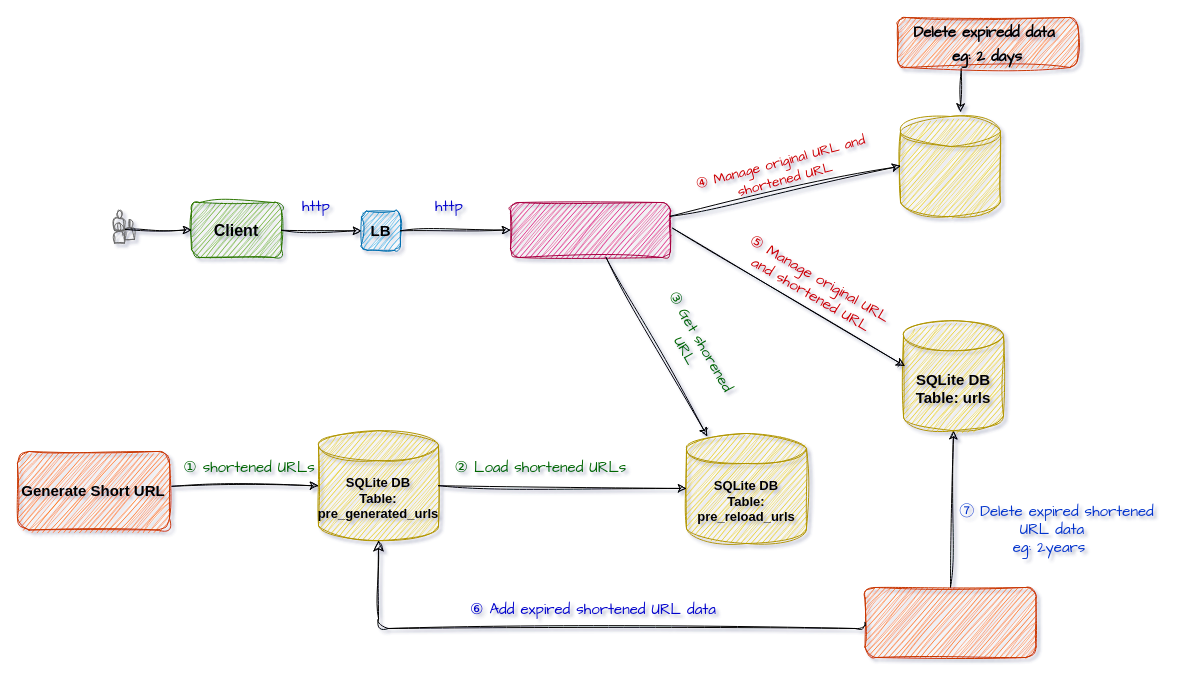
This 1179x681 diagram has some shape labels left out. Here are the shapes that lost their labels. From the top down, the box of each, then its label:
(900, 116, 1000, 216): Redis Cache
(510, 202, 670, 258): ShortenURL Service Cluster
(864, 586, 1036, 658): Delete expired Shorten URL Service
